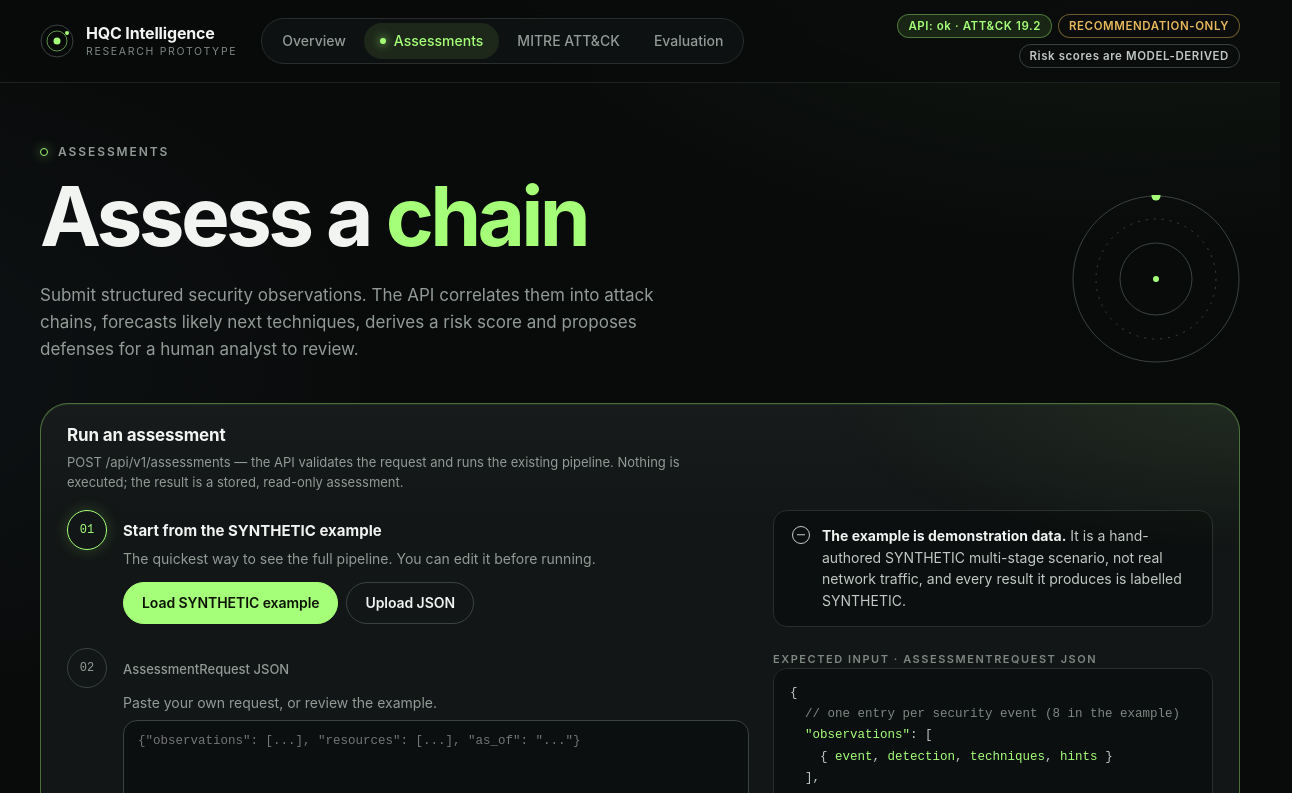
Test case: assessment submission safety › disables the form while a request is in flight and sends exactly one POST
Click the button "Load SYNTHETIC example".
click(231, 603)  # box [123,582,338,624]
(page scrolled)
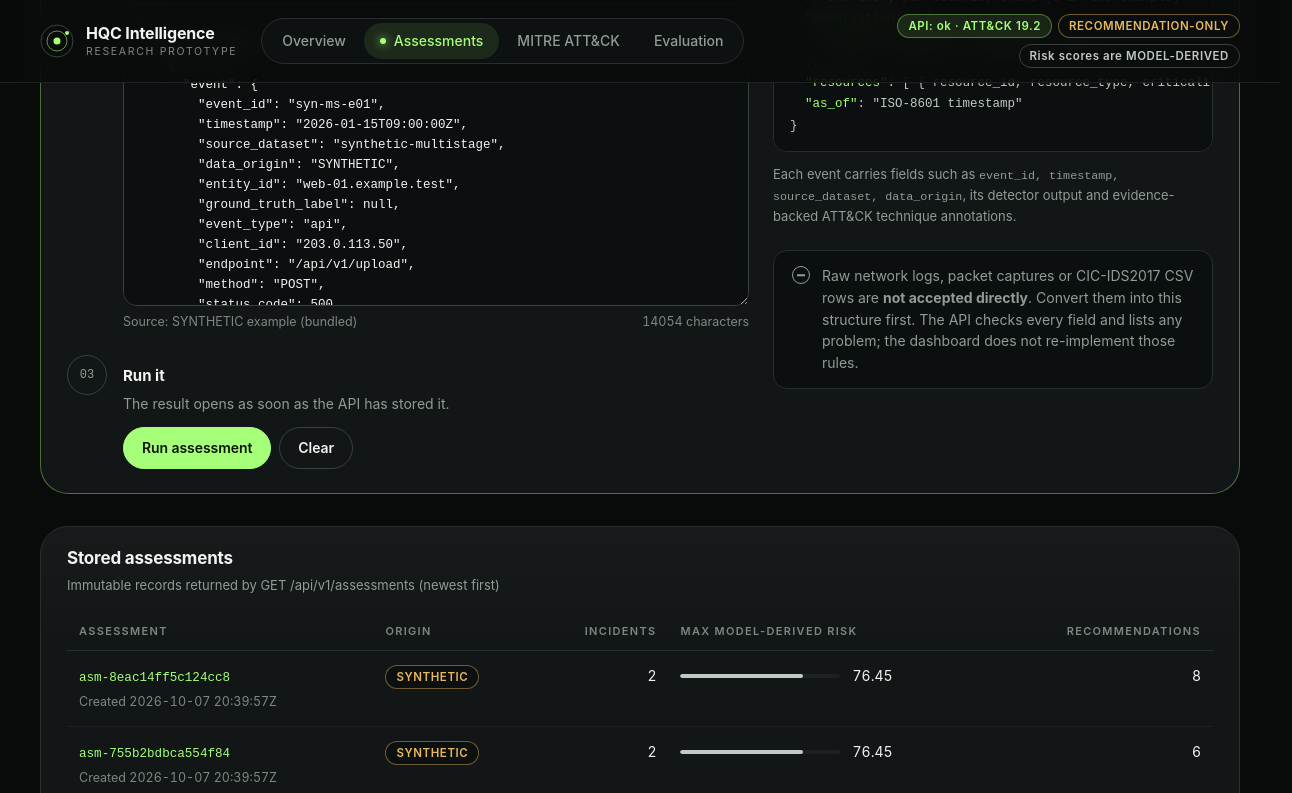
Click the button "Run assessment".
click(197, 448)  # box [123,427,271,469]
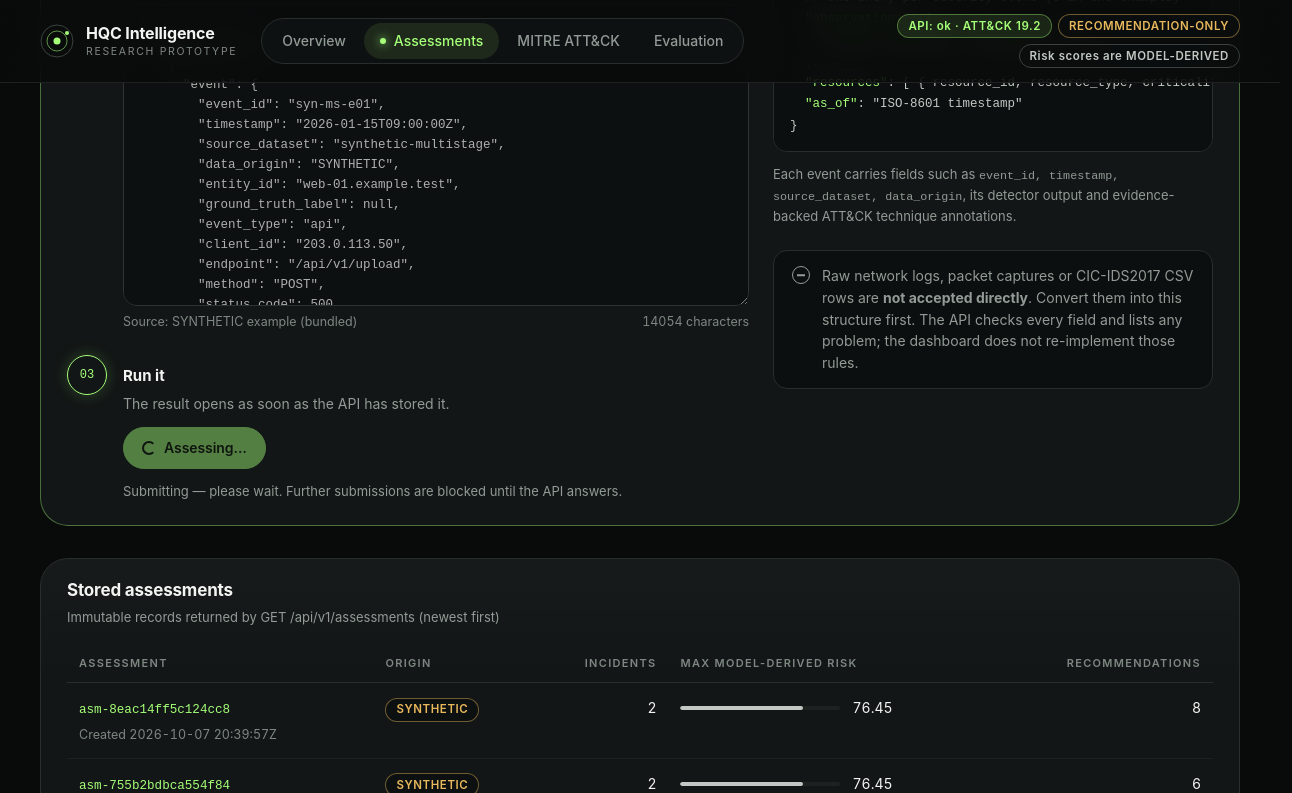
expect the button "Assessing…" is disabled: met
expect the text "Further submissions are blocked" is shown: met, box [123,483,622,499]
Click the button "Assessing…".
click(194, 448)  # box [123,427,266,469]
(page scrolled)
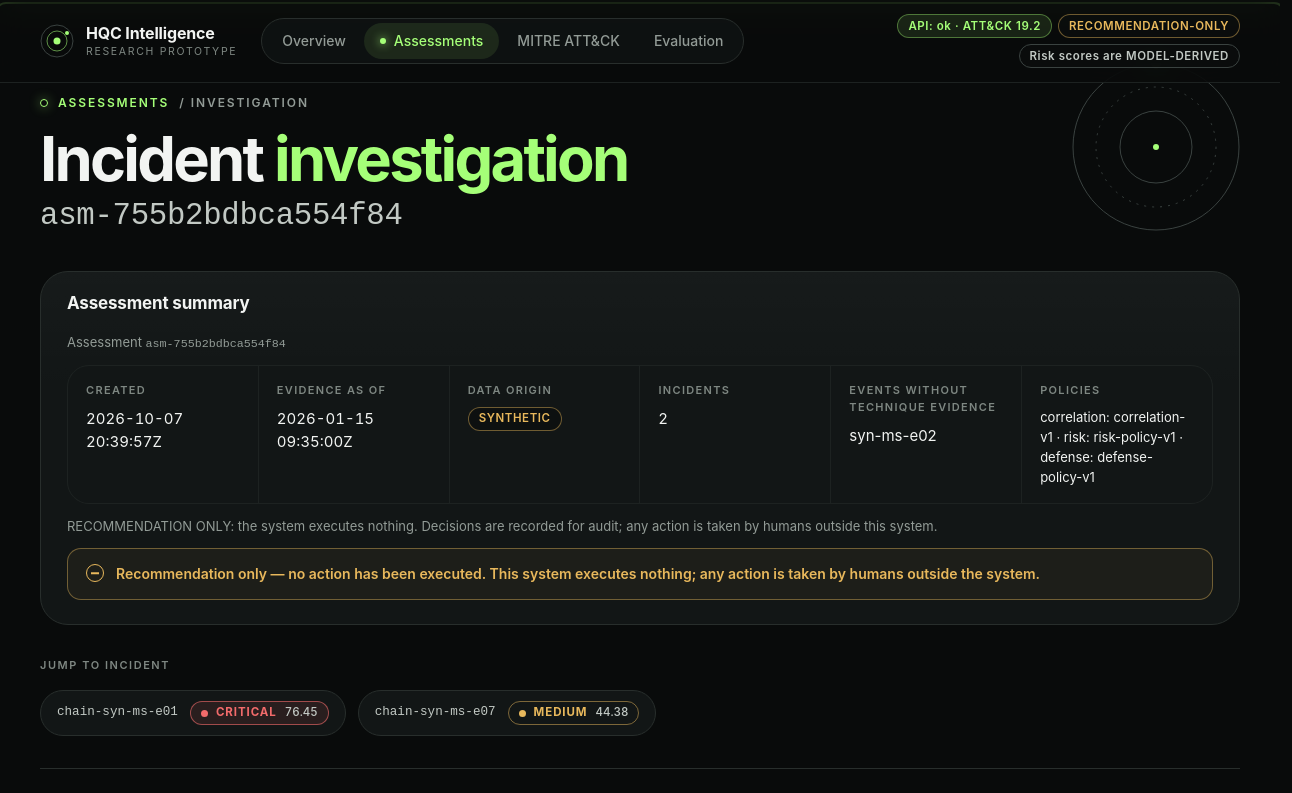
expect the element with test id "assessment-header" shows "asm-755b2bdbca554f84": met, box [146,336,286,350]
